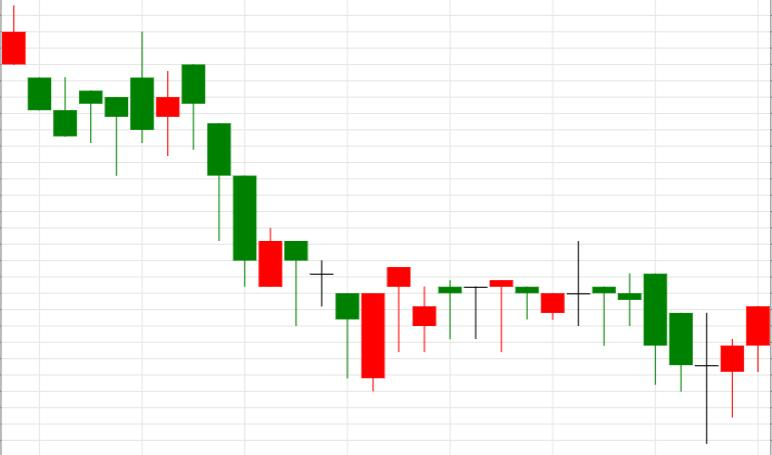bullish_engulfing_rise: (182, 64, 385, 392)
